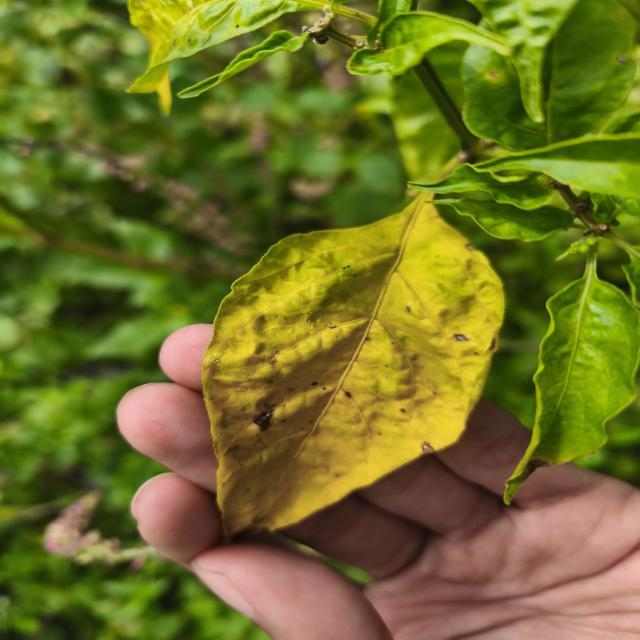Virus Kuning: (200, 188, 506, 544), (504, 275, 640, 513)
